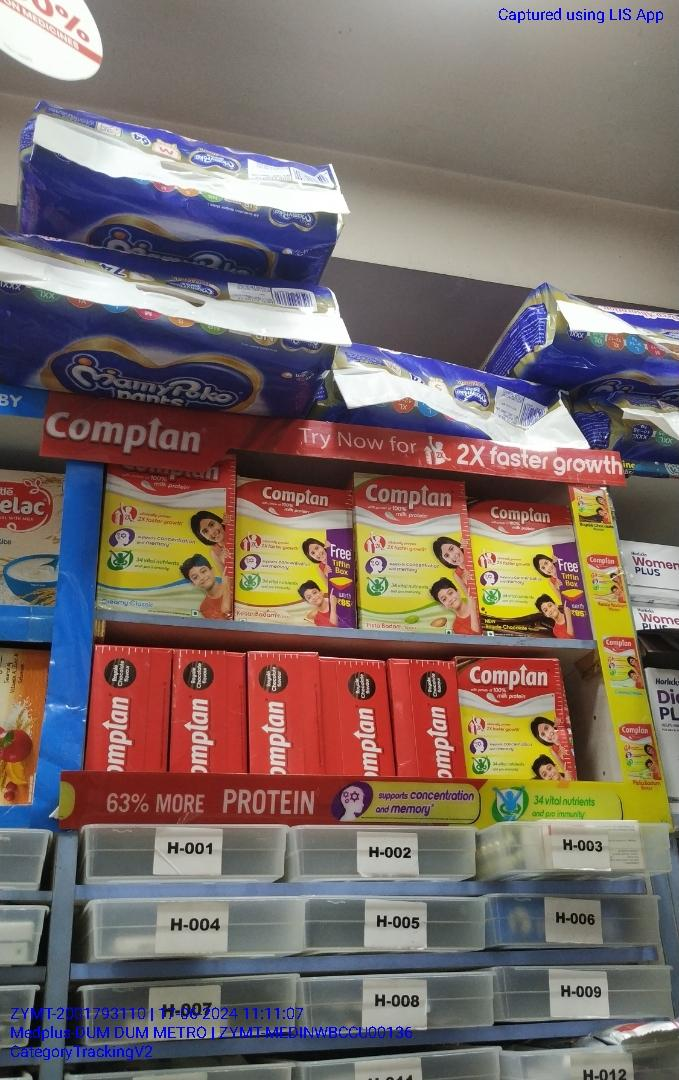COMPLAN_CHOCOLATE_500_GMS_PACK: (476, 499, 585, 639)
COMPLAN_CREAMY_CLASSIC_500_G_PACK: (105, 469, 233, 621)
COMPLAN_KESAR_BADAM_500_GMS_PACK: (238, 476, 356, 627)
COMPLAN_PISTA_BADAM_500_GMS_PACK: (362, 474, 471, 631)
